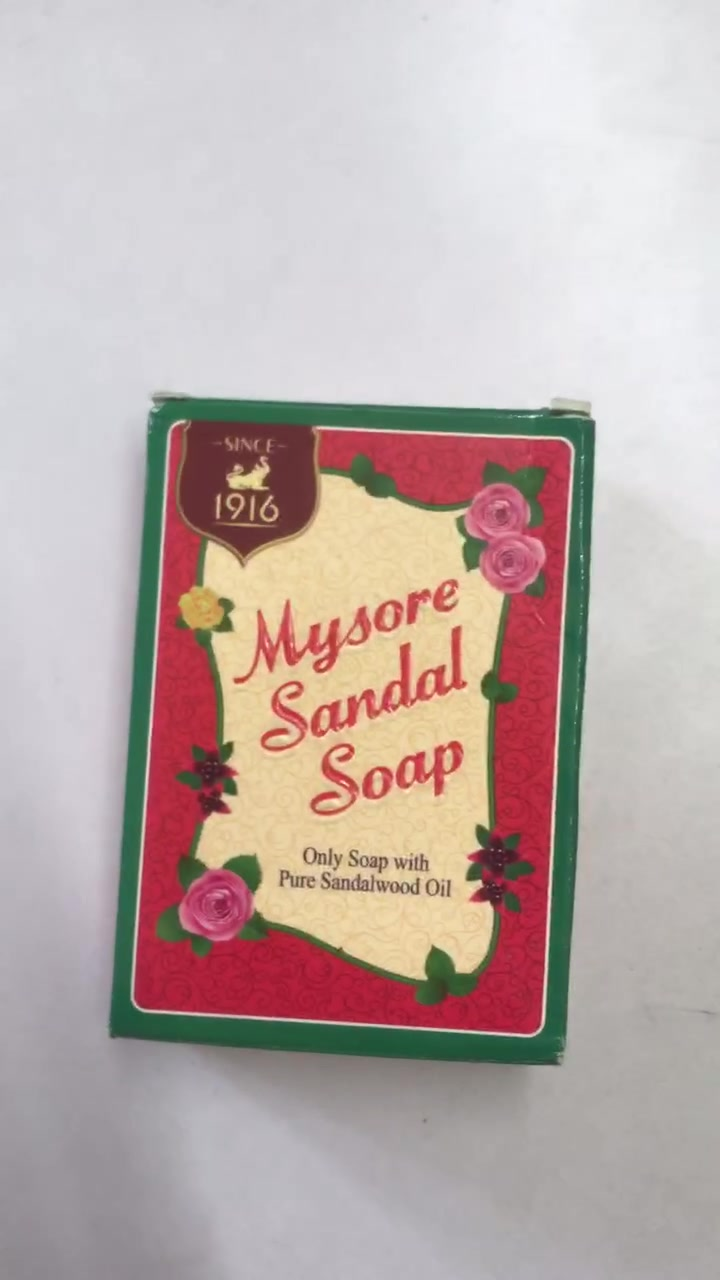mysore sandal soap: (110, 389, 595, 1074)
